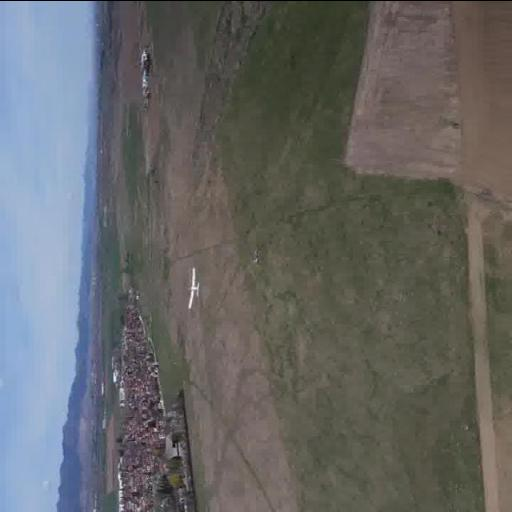uav: (180, 268, 208, 314)
